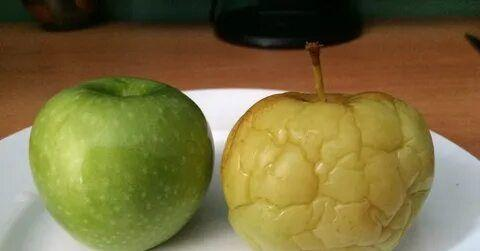Apple: (29, 76, 220, 249), (222, 91, 432, 248)
